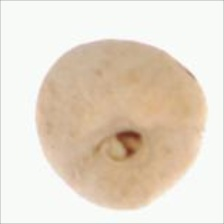L3: (98, 127, 150, 164)
L4: (35, 38, 208, 209)
